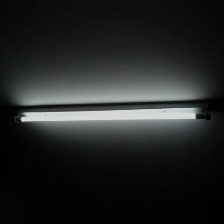light_bulb: (12, 106, 208, 127)
